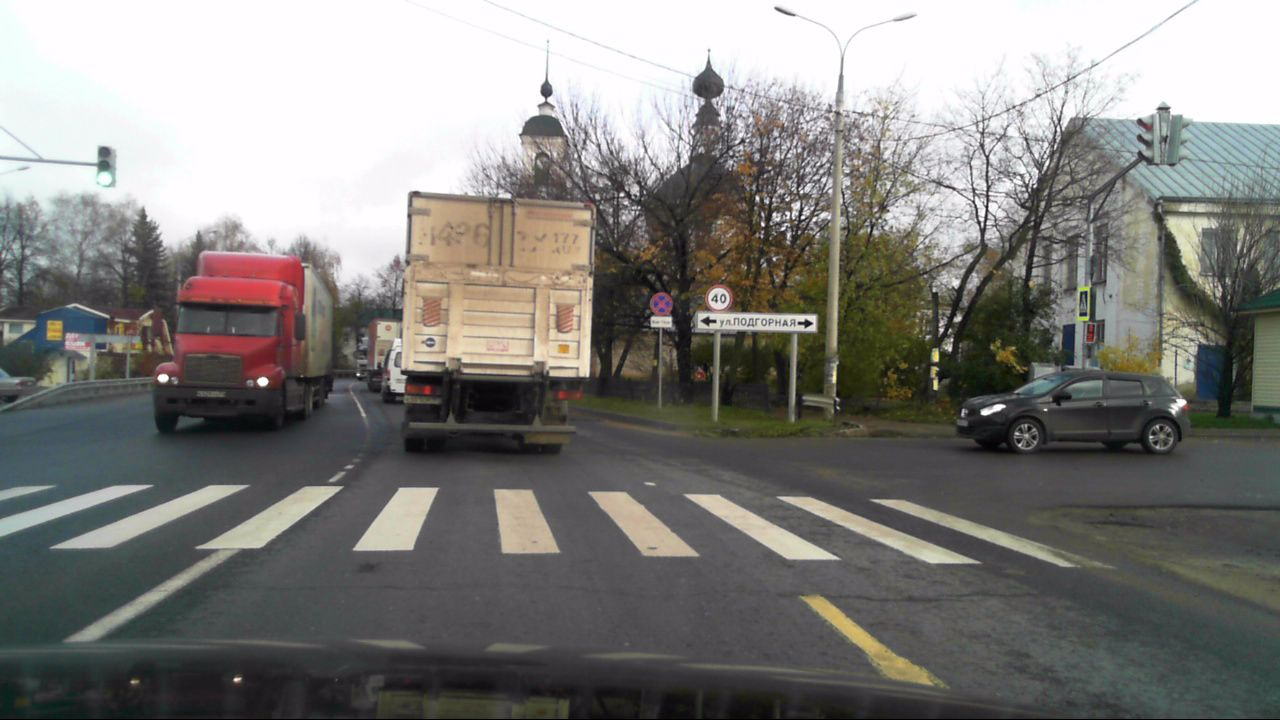No Parking: (649, 290, 673, 317)
speed_warning_40: (704, 283, 732, 312)
